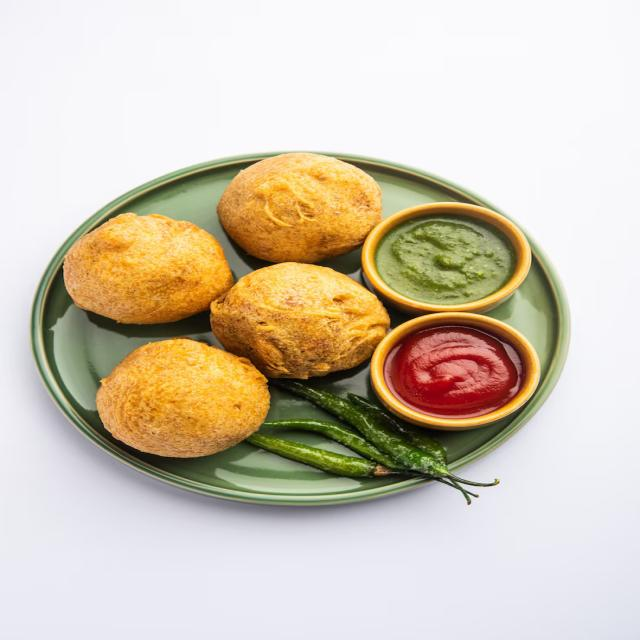BONDA: (65, 153, 383, 450)
GREEN CHUTNEY: (382, 224, 512, 298)
